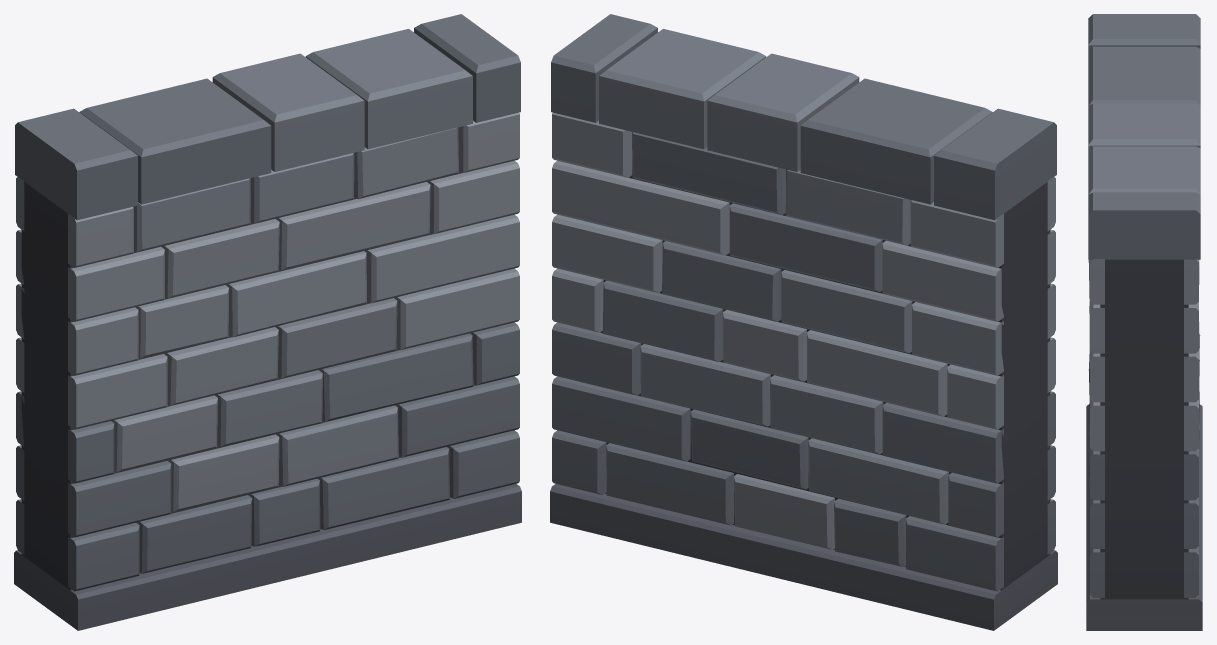
File: wall_ashlar_C.glb
3 renders of one model, left to right at view 1: azimuth 30°, elevation 25°; view 2: azimuth 150°, elevation 25°; view 3: azimuth 270°, elevation 25°, orthographic. The views are drawn at different scales.
Parts seen in each view (by area): view 1: Item; view 2: Item; view 3: Item.
Boxes of the visible parts, x1,y1,x2,y2 form: Item: (14,14,521,630); Item: (550,14,1057,630); Item: (1086,14,1202,630).
Bounding box in the file's own units: 4 × 4 × 1.
Materials: 1 (1 with a texture image).
